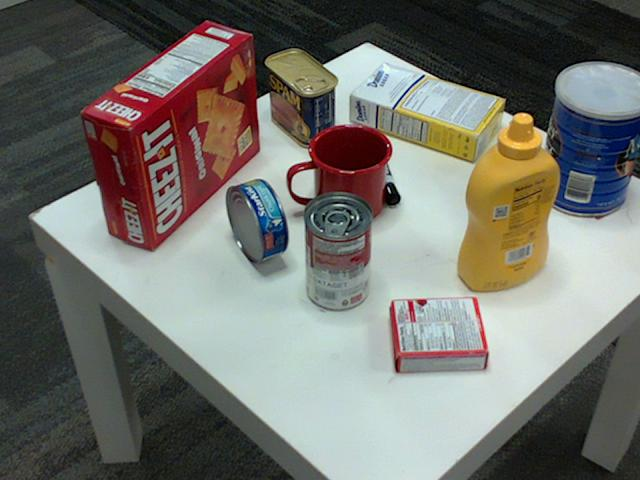cracker_box: (80, 18, 260, 248)
gelatin_box: (387, 298, 489, 373)
large_marker: (364, 137, 399, 204)
master_chef_can: (537, 62, 639, 216)
mug: (289, 121, 393, 224)
mustard_bottle: (456, 113, 560, 289)
potted_meat_can: (263, 50, 336, 147)
sugar_box: (350, 62, 508, 161)
tomato_soup_can: (303, 192, 373, 310)
tuna_fish_can: (226, 178, 288, 264)
